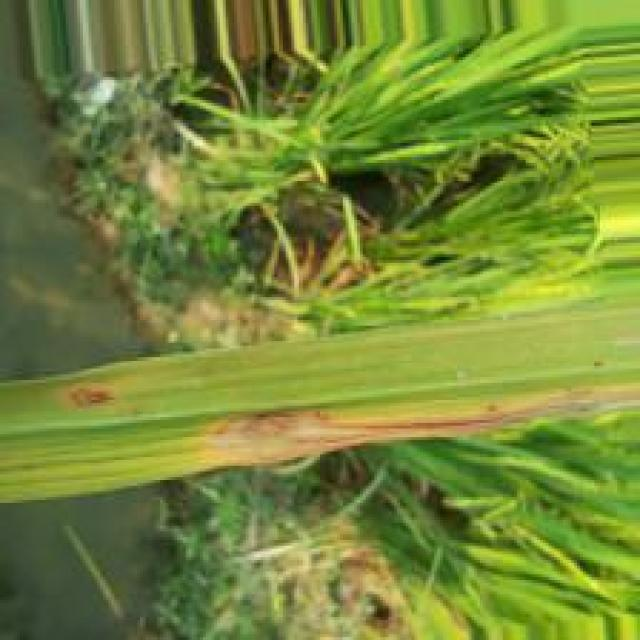Leaf_Blast: (188, 386, 640, 473), (46, 379, 119, 418)
